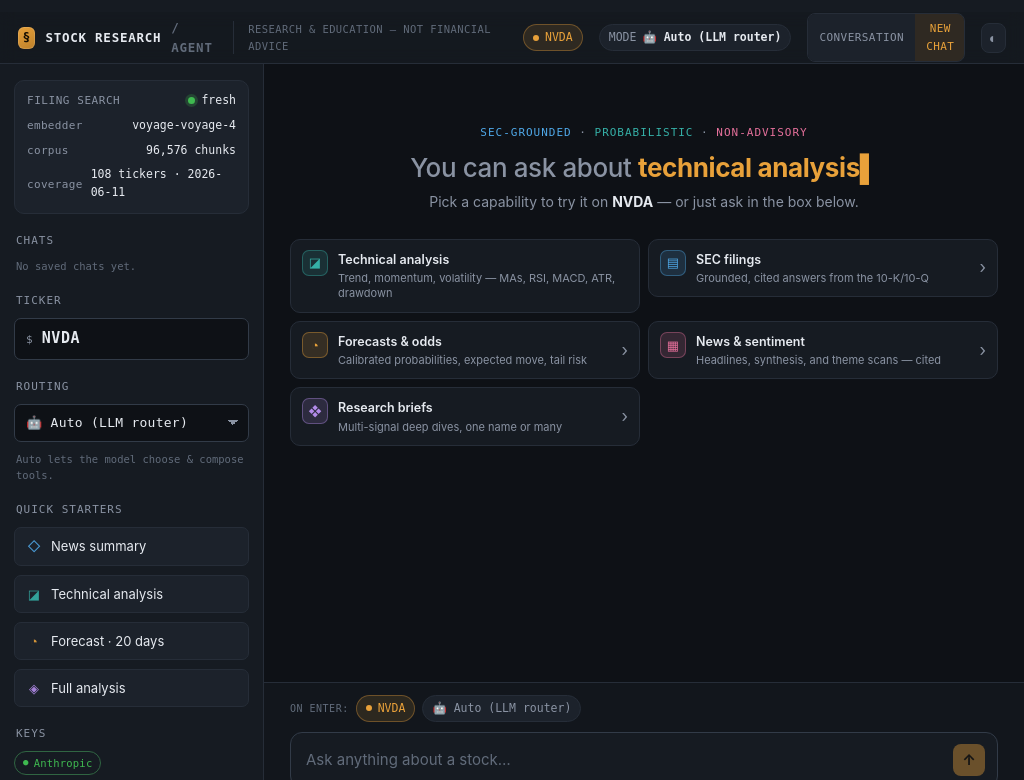
Test case: empty-state hero › NEW CHAT returns to the hero and hides the prior turn
Expected: the field named "Ticker symbol" holds "NVDA", [42,327,237,351]
Type "forecast NVDA" into the text box named "Message" at (624, 759), box [306,748,943,771]
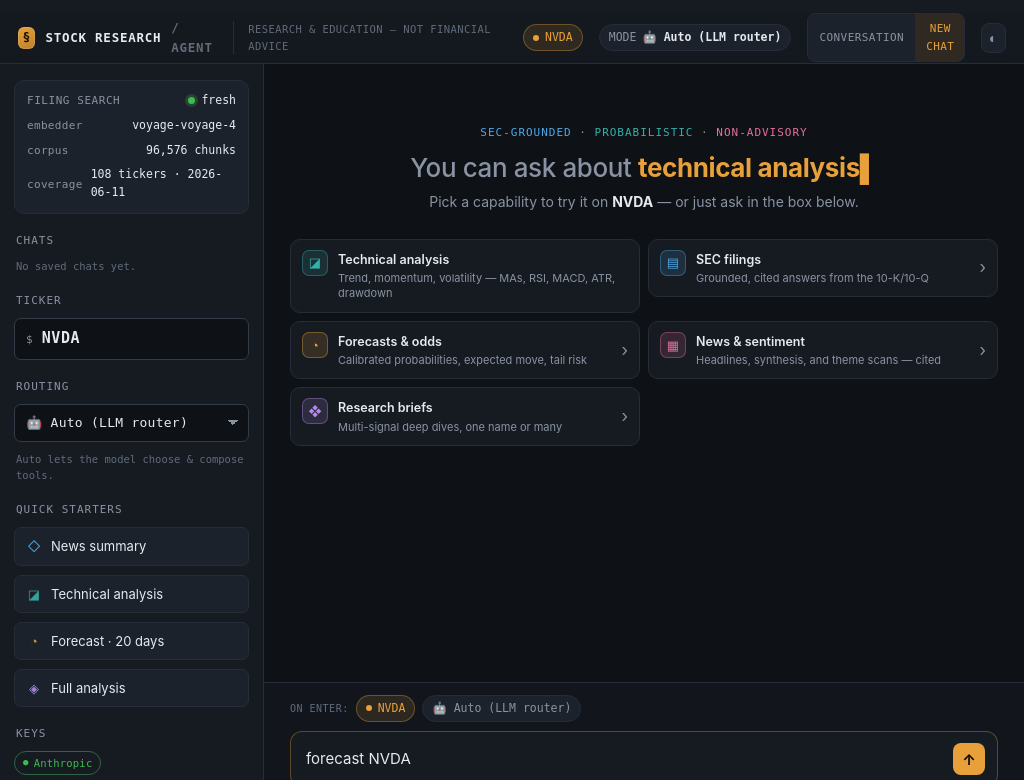
Click the button named "send" at (969, 759), box [953,743,985,775]
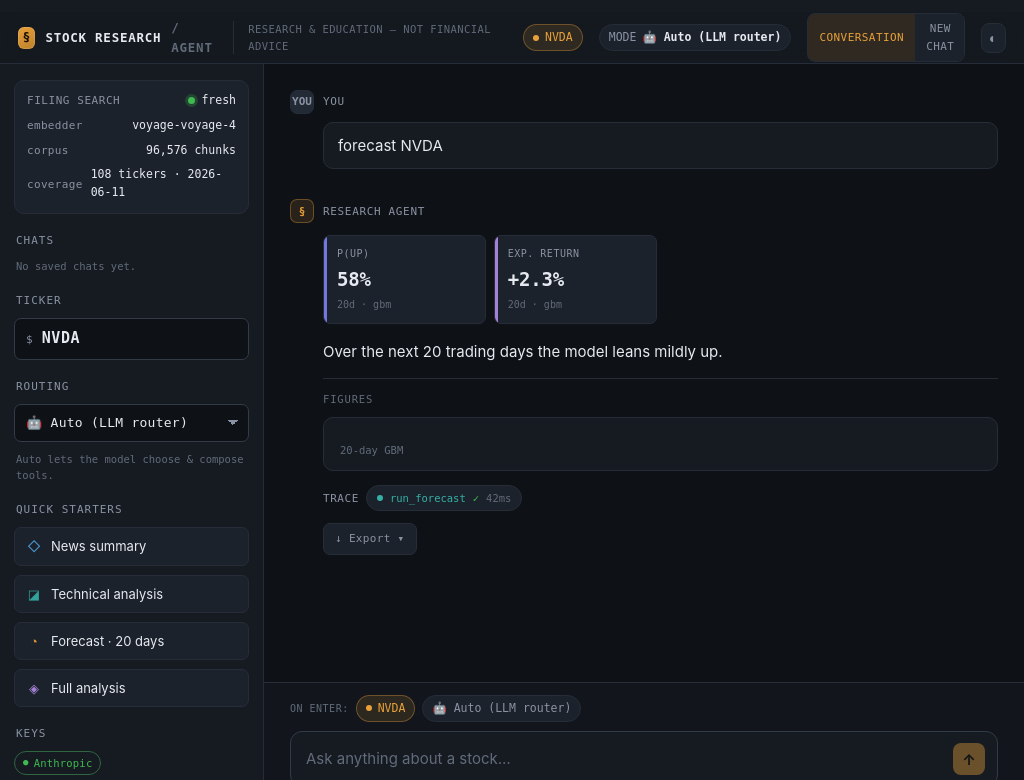
Click the button "NEW CHAT" at (940, 38), box [915,14,966,61]
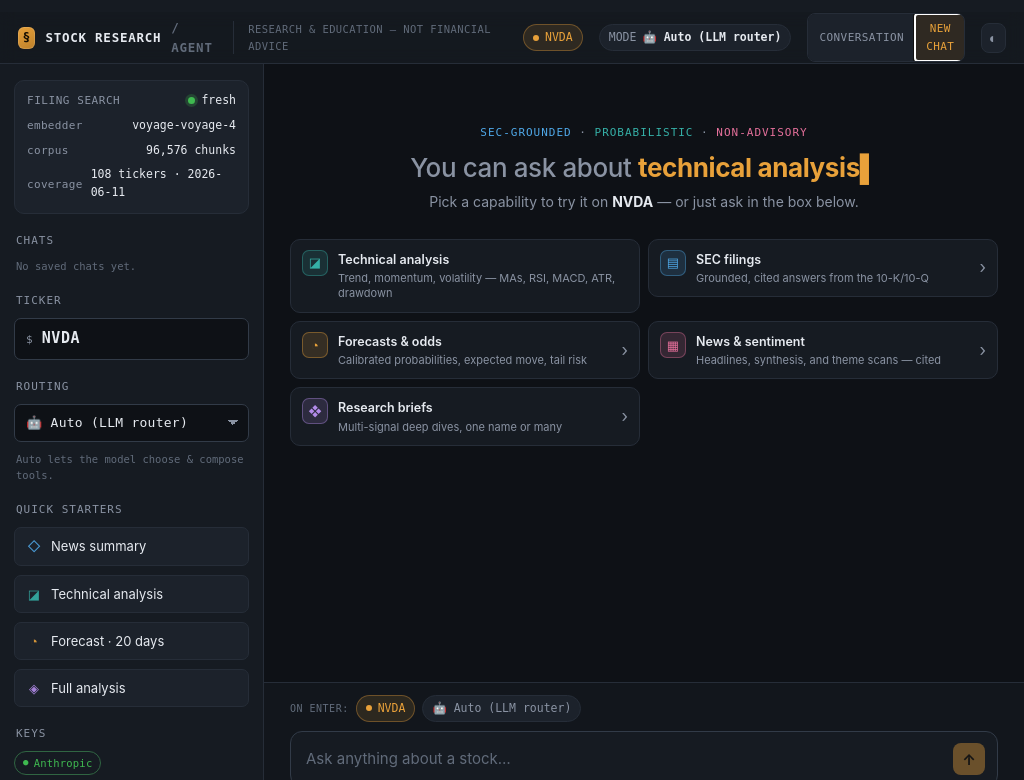
Expected: the text "SEC-grounded" is shown, [480,126,572,139]
Expected: the element with test id "assistant-turn" is gone
